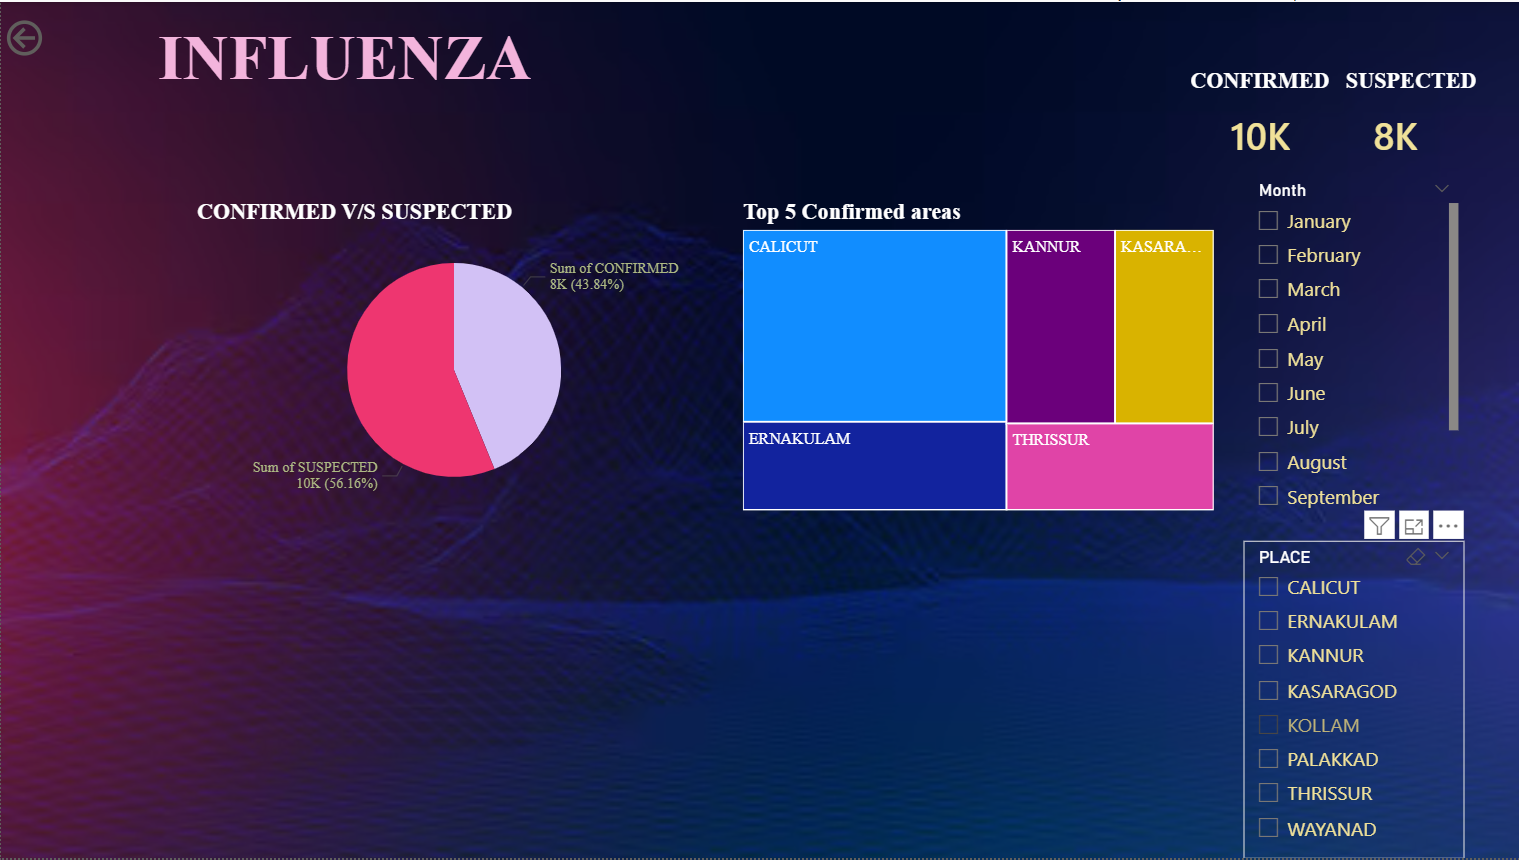

Layout of this report page (visuals, bound fields, positions):
{"tool":"powerbi","page":{"name":"Influenza","canvas":[1280,720],"ordinal":5},"visuals":[{"type":"cardVisual","fields":{"Data":["Sum(DISEASES.SUSPECTED)","Sum(DISEASES.CONFIRMED)"]},"box":[1004.7,30.2,267.4,161.6],"z":0},{"type":"actionButton","box":[0,10.5,100,39.5],"z":1},{"type":"textbox","box":[991.9,50,134.9,37.2],"z":2},{"type":"textbox","box":[1118.6,50,134.9,37.2],"z":3},{"type":"textbox","box":[100,11.6,379.1,77.9],"z":4},{"type":"slicer","fields":{"Values":["DISEASES.MONTH.Variation.Date Hierarchy.Month"]},"box":[1045.4,145.3,186,287.2],"z":5},{"type":"slicer","fields":{"Values":["DISEASES.PLACE"]},"box":[1045.4,453.5,186,266.3],"z":6},{"type":"treemap","title":"Top 5 Confirmed areas","fields":{"Group":["DISEASES.PLACE"],"Values":["Sum(DISEASES.CONFIRMED)"]},"box":[619.8,166.3,405.8,266.3],"z":7},{"type":"pieChart","title":"CONFIRMED V/S SUSPECTED","fields":{"Y":["Sum(DISEASES.CONFIRMED)","Sum(DISEASES.SUSPECTED)"]},"box":[159.3,166.3,443,266.3],"z":8}]}

Visuals, with their boxes in screenshot pixels (x1, y1, x2, y2), scaled from the page's 1280x720 canvas onto the 1519x860 screenshot:
cardVisual - Sum(DISEASES.SUSPECTED) x Sum(DISEASES.CONFIRMED): (1192,36,1510,229)
actionButton: (0,13,119,60)
textbox: (1177,60,1337,104)
textbox: (1327,60,1488,104)
textbox: (119,14,569,107)
slicer - DISEASES.MONTH.Variation.Date Hierarchy.Month: (1241,174,1461,517)
slicer - DISEASES.PLACE: (1241,542,1461,859)
"Top 5 Confirmed areas" treemap: (736,199,1217,517)
"CONFIRMED V/S SUSPECTED" pieChart: (189,199,715,517)
